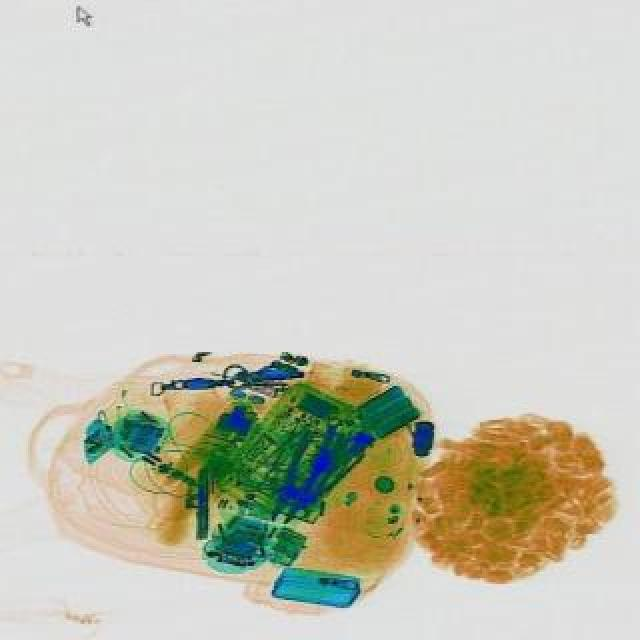scissors: (292, 414, 340, 522)
wrench: (254, 428, 350, 534)
